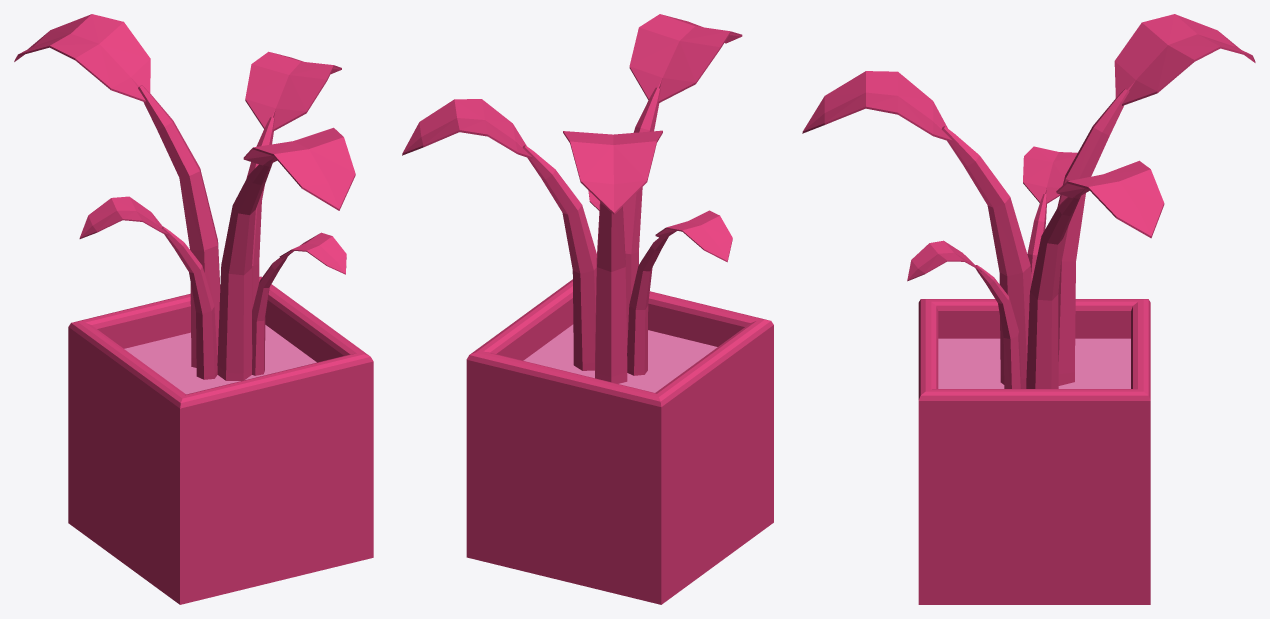
Rendered from Leaves_01.fbx.
3 renders of one model, left to right at view 1: azimuth 30°, elevation 25°; view 2: azimuth 150°, elevation 25°; view 3: azimuth 270°, elevation 25°, orthographic. The views are drawn at different scales.
Visible parts, largest first — view 1: Leaves_01; view 2: Leaves_01; view 3: Leaves_01.
Boxes of the visible parts, box(x1,y1,x2,y2) form: Leaves_01: box(14, 14, 373, 604); Leaves_01: box(402, 14, 773, 604); Leaves_01: box(802, 14, 1255, 604).
Bounding box in the file's own units: 41.38 × 65.44 × 54.93.
